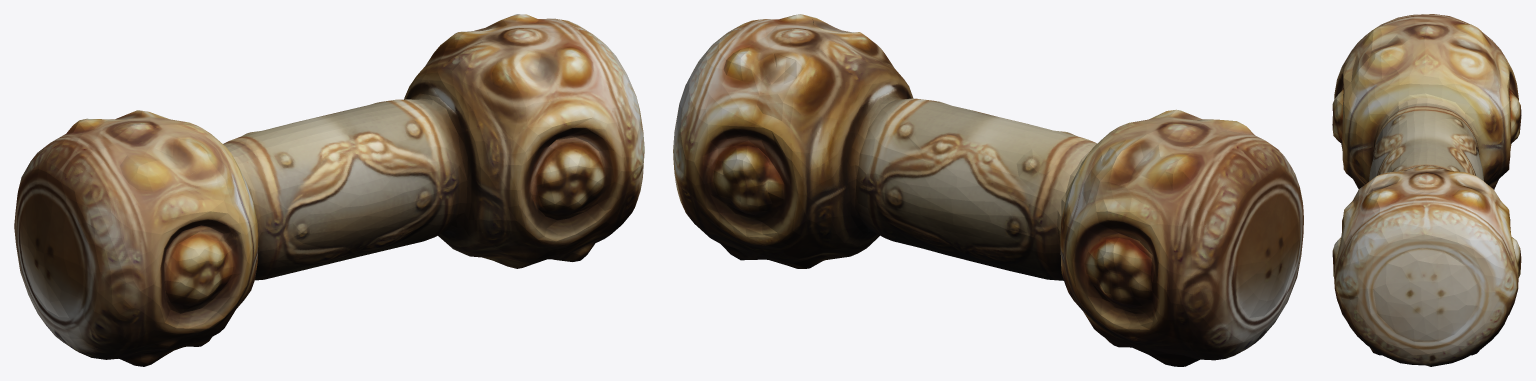
Rendered from stone-massage-roller-vintage.jpeg.glb.
3 renders of one model, left to right at view 1: azimuth 30°, elevation 25°; view 2: azimuth 150°, elevation 25°; view 3: azimuth 270°, elevation 25°, orthographic. The views are drawn at different scales.
Visible parts, largest first — view 1: world; view 2: world; view 3: world.
Boxes of the visible parts, <box> form: world: <box>14,14,644,366</box>; world: <box>673,14,1303,366</box>; world: <box>1332,14,1521,366</box>.
Size of the model in its own units: 0.9917 by 0.3717 by 0.3577.
1 material, 1 textured.
